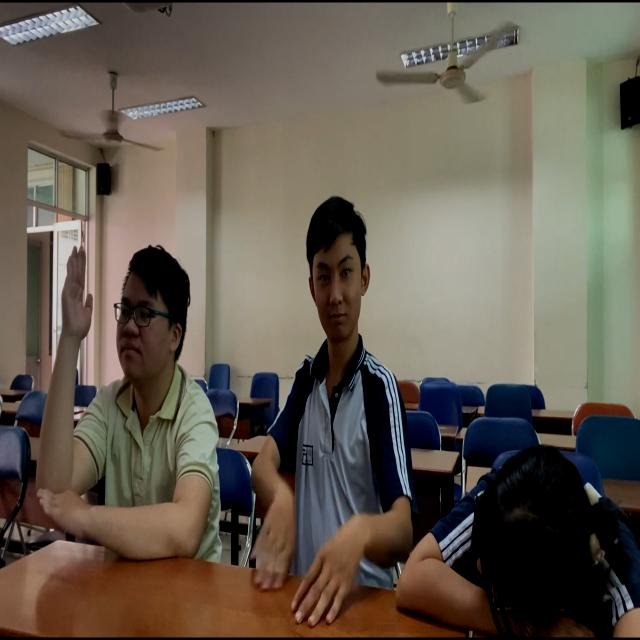raise_hand: (32, 228, 217, 556)
sleep: (408, 434, 640, 640)
